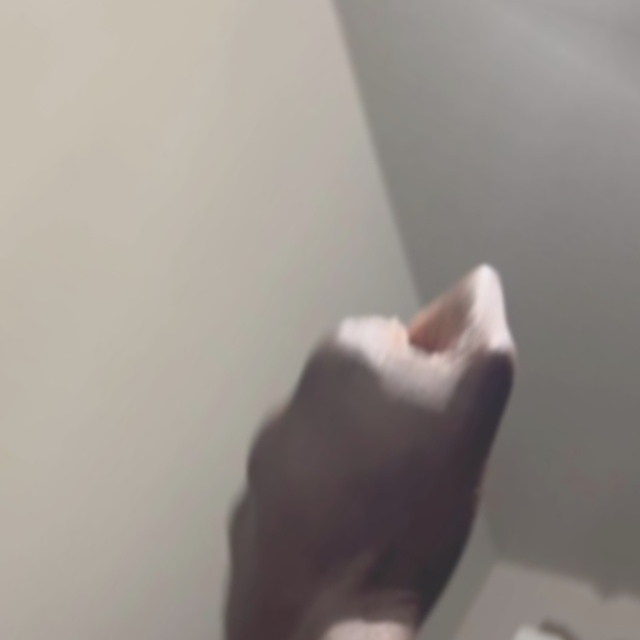Rock: (97, 163, 609, 640)
